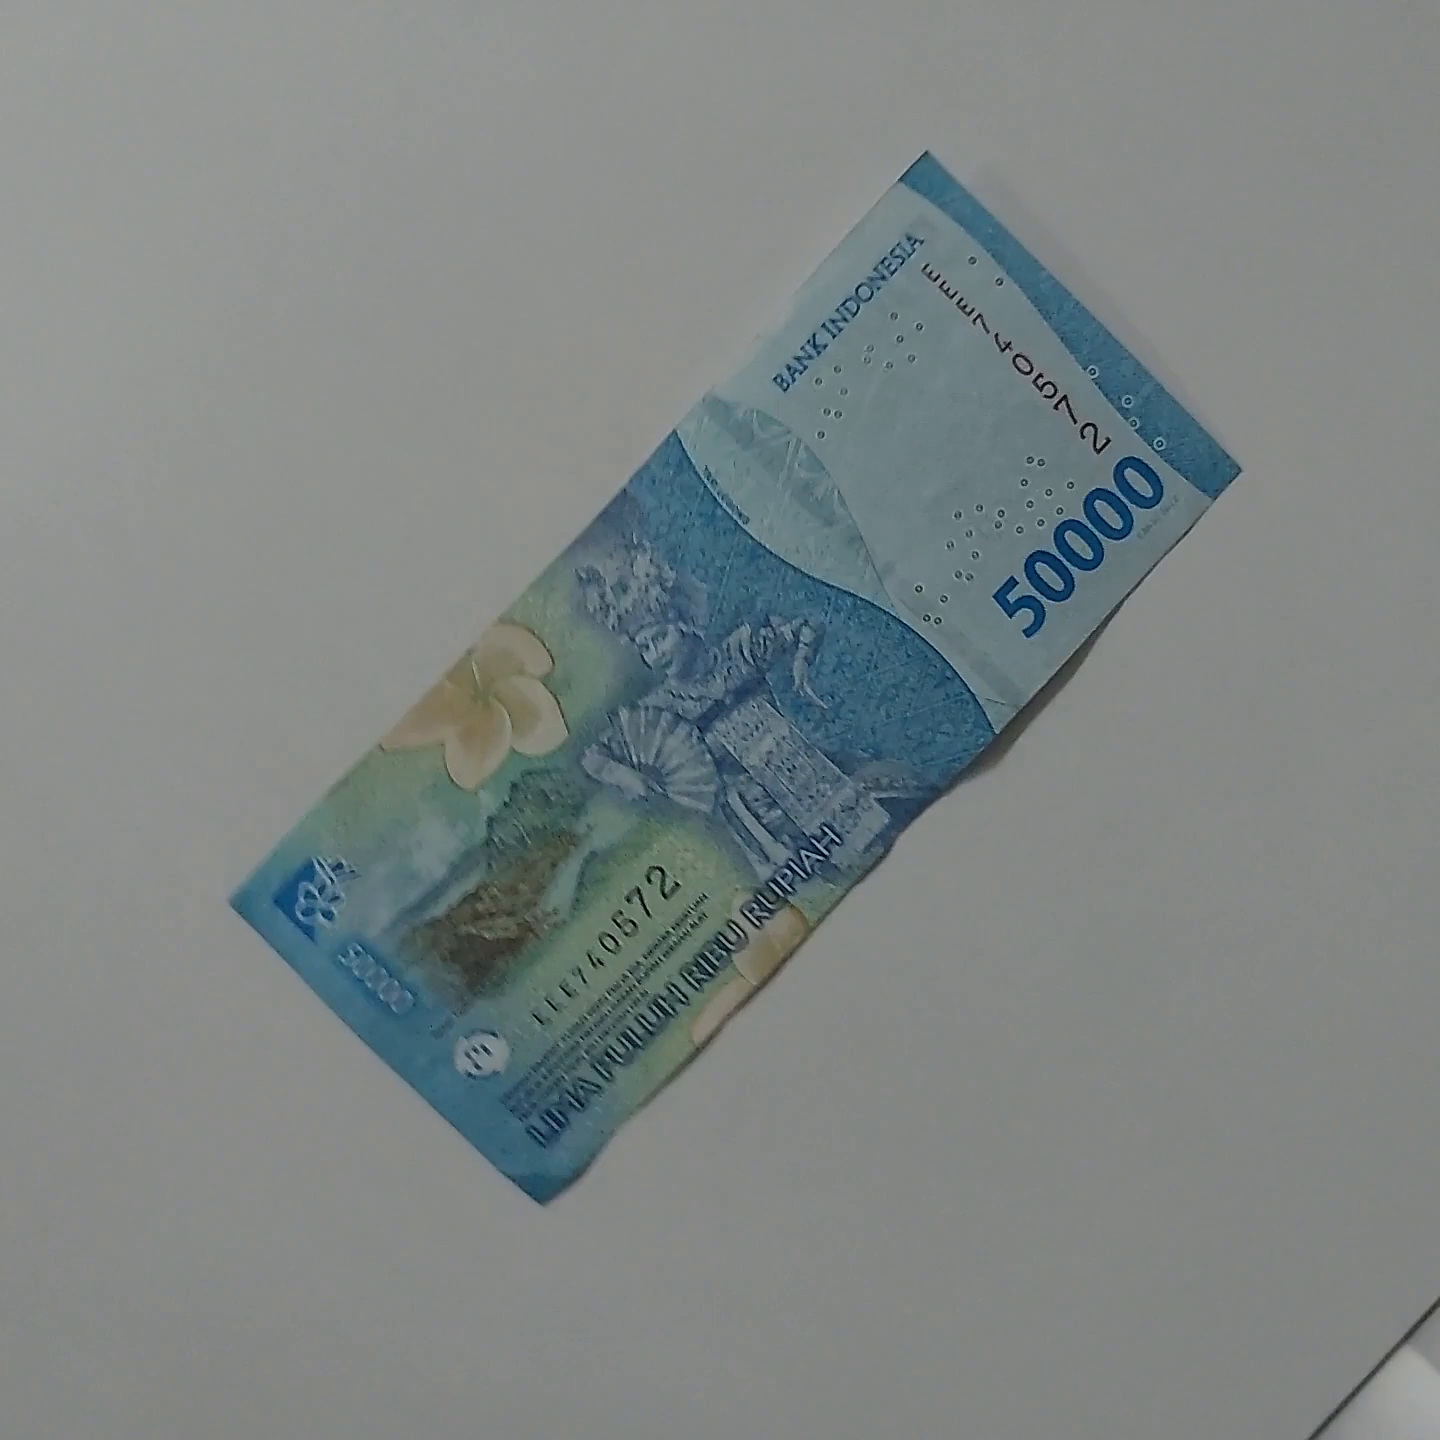50k: (216, 919, 1284, 1383)
